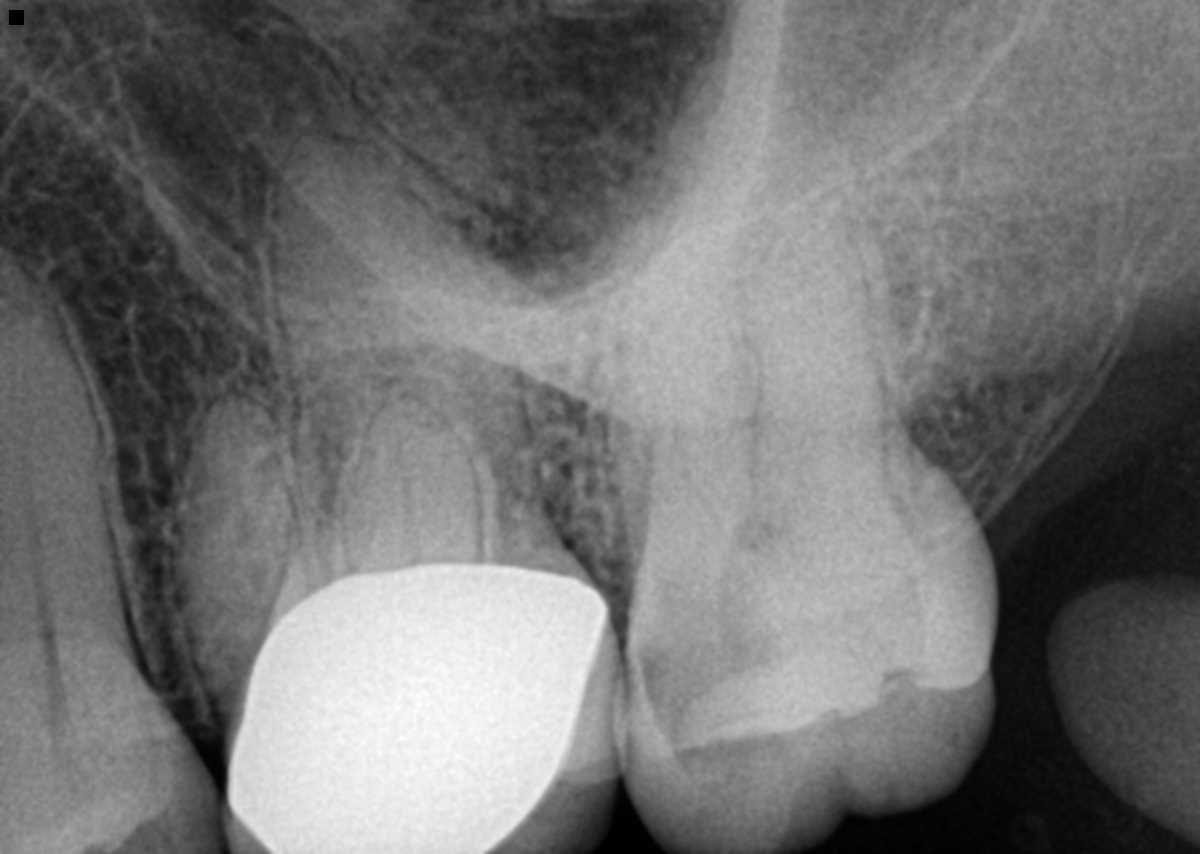Distal Root: (743, 205, 890, 505), (344, 391, 481, 571)
Main Canal: (17, 374, 52, 655)
Main Root: (0, 258, 139, 660)
Mesial Root: (180, 389, 323, 695), (605, 291, 746, 573)
Palatal Root: (267, 122, 574, 604), (647, 50, 905, 543)
